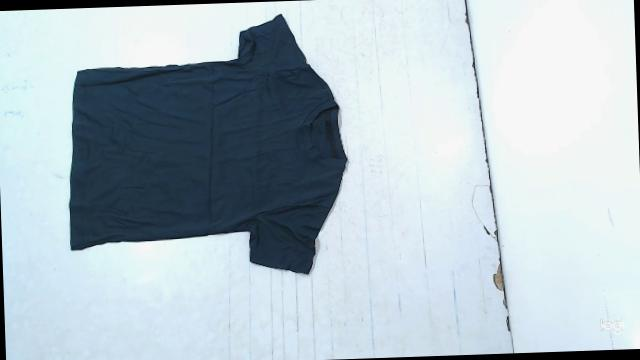new-garment: (69, 15, 346, 274)
